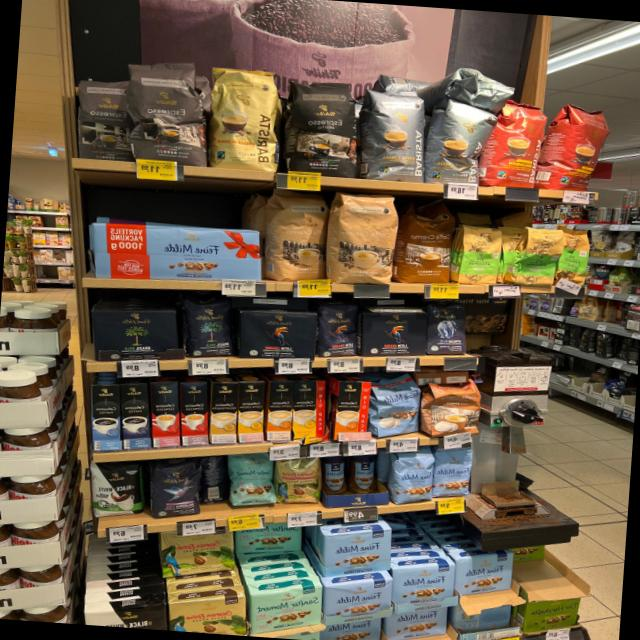AB Bohne: (425, 303, 465, 355)
Athiopien Bohne: (554, 226, 593, 286)
Athiopien Gemahlen: (512, 224, 566, 288), (457, 224, 502, 287)
BM Bohne: (179, 297, 234, 359)
BM Gemahlen: (90, 308, 178, 362)
BW Bohne: (87, 464, 144, 518)
Barista CB: (206, 64, 283, 170)
Barista CC: (358, 86, 430, 180), (422, 102, 498, 186)
Barista Kolumbien: (538, 101, 612, 192), (482, 99, 550, 190)
C Fino Bohne: (150, 461, 203, 519)
CC Mild: (328, 191, 400, 288), (264, 186, 332, 284)
CC Vollmundig: (423, 380, 483, 437)
CC Vollmundig 36 Pads: (394, 196, 459, 286)
Colombia BB Bohne: (274, 457, 321, 507)
Espresso Aromatisch: (125, 58, 208, 166), (72, 76, 130, 162)
Espresso Kraftig: (282, 72, 361, 176)
FM 36 Pads: (372, 374, 423, 438)
FM Bohne: (392, 451, 434, 505), (432, 448, 474, 498)
FM Gemahlen: (321, 526, 390, 578), (322, 577, 392, 627), (393, 561, 457, 615), (455, 551, 511, 596), (382, 605, 448, 640)
FM Instant: (321, 452, 377, 500)
Herzhatfe Mundig: (524, 597, 580, 632)
LG Bohne: (314, 301, 360, 358)
LG Gemahlen: (237, 309, 317, 358), (358, 308, 427, 357)
SM Bohne: (226, 453, 277, 509)
SM Gemahlen: (250, 584, 322, 636)
Simo CCMild: (292, 380, 326, 440)
Simo CCMild bigpack: (238, 381, 265, 443)
Simo CCVollmundig: (331, 380, 371, 441)
Simo CCVollmundig bigpack: (266, 380, 294, 440)
Simo Decaff: (209, 381, 239, 444)
Simo Es Brazil: (148, 381, 180, 447), (180, 381, 207, 445)
Simo Es Kraft: (120, 383, 151, 450)
Simo Es Vanilla: (90, 384, 121, 449)
